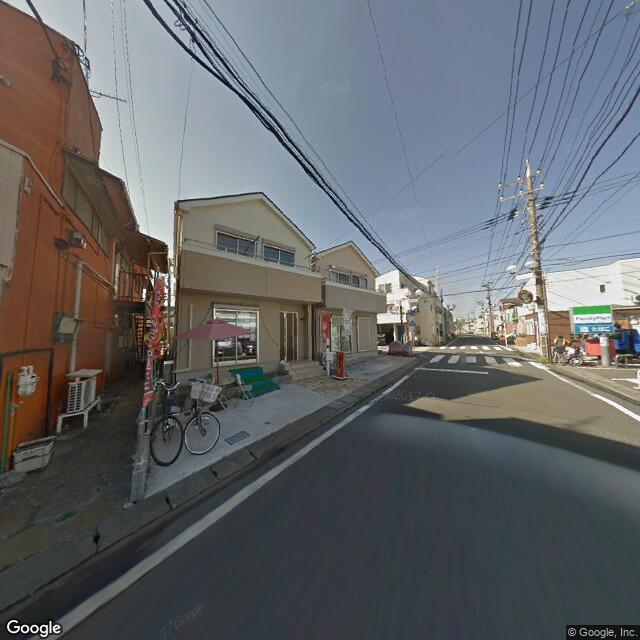family_mart: (573, 303, 615, 336)
